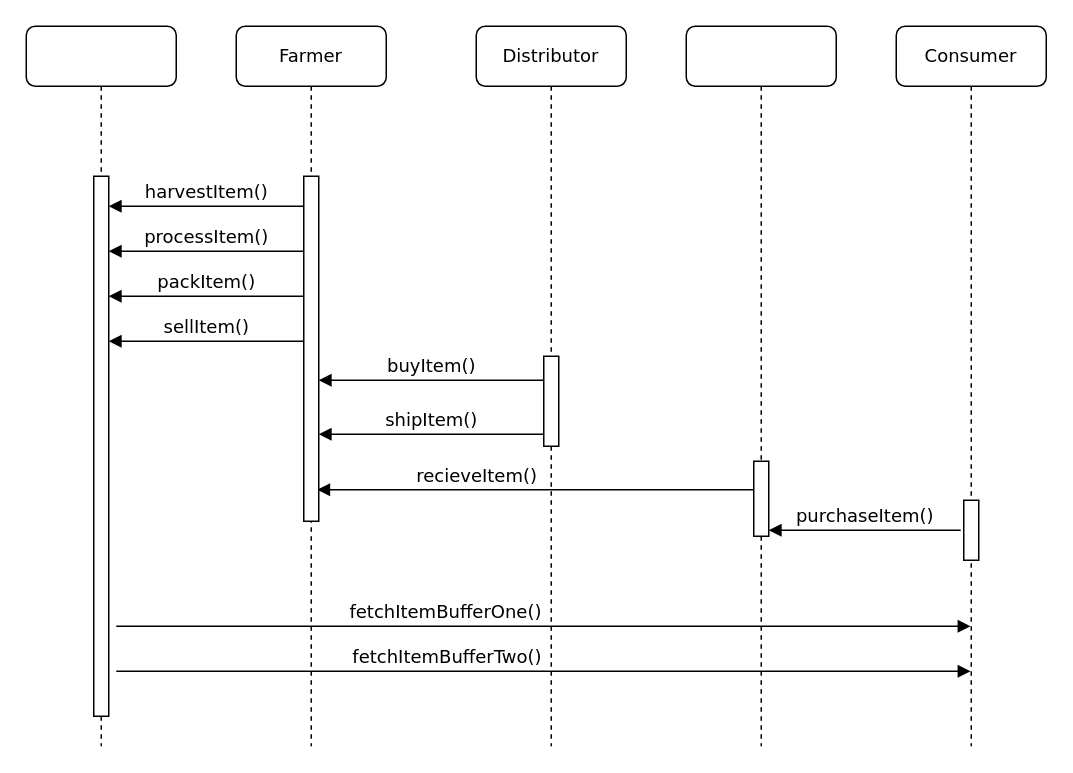
Image size: 1073x773. Some labels were removed from this diagram. Here are the shapes that lost their labels. From the top down, the box of each, then its label:
(25, 25, 176, 746): Coffee
(685, 25, 836, 746): Retailer
